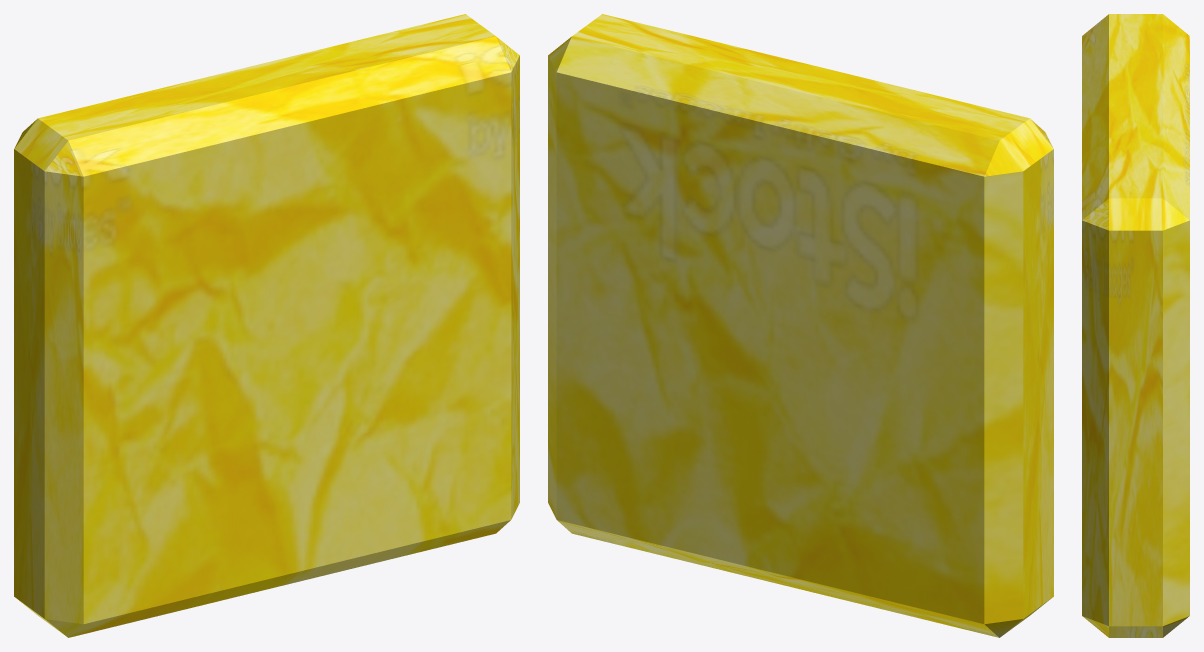
The model's file is libro1.obj.
3 renders of one model, left to right at view 1: azimuth 30°, elevation 25°; view 2: azimuth 150°, elevation 25°; view 3: azimuth 270°, elevation 25°, orthographic. The views are drawn at different scales.
Visible parts, largest first — view 1: pCube8; view 2: pCube8; view 3: pCube8.
Part boxes in pixels (<box>): pCube8: <box>14,14,519,637</box>; pCube8: <box>548,14,1053,637</box>; pCube8: <box>1082,14,1189,637</box>.
Bounding box in the file's own units: 0.9 × 0.9 × 0.2.
Materials: 1 (1 with a texture image).
